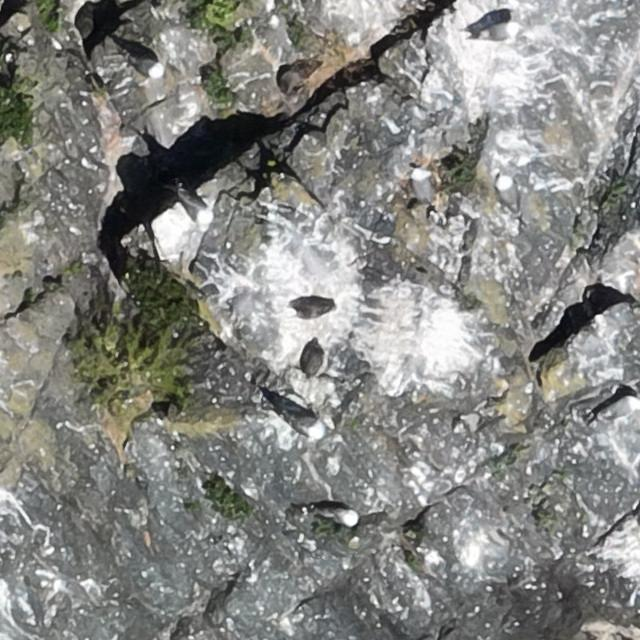umineko: (268, 391, 324, 441), (180, 186, 212, 227), (313, 505, 357, 524), (130, 56, 162, 77), (477, 22, 511, 40), (412, 171, 431, 203), (498, 177, 516, 209)
